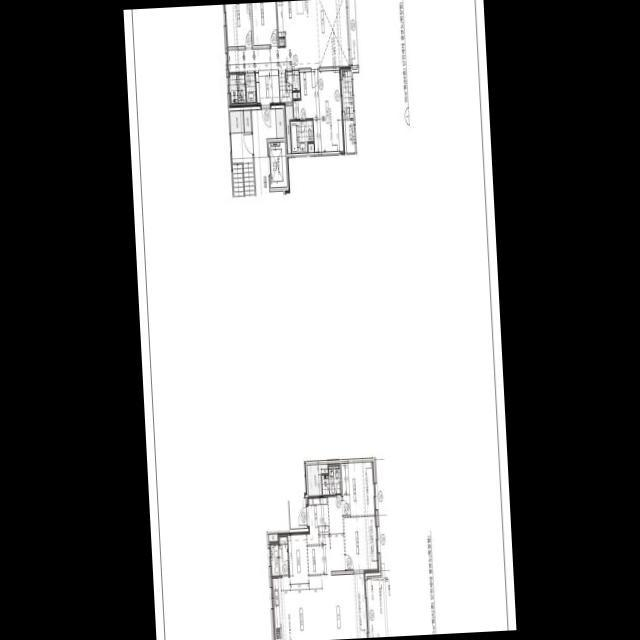background: (123, 0, 517, 640)
space_balconi: (343, 70, 353, 118)
space_bedroom: (311, 70, 345, 154), (344, 515, 379, 573), (341, 461, 376, 516), (225, 3, 252, 46), (252, 2, 277, 45)
space_dressroom: (293, 71, 313, 118)
space_elevator: (269, 141, 287, 187)
space_elevator_hall: (252, 108, 277, 195)
space_front: (307, 496, 329, 544), (256, 69, 280, 107)
space_kitchen: (271, 531, 312, 640), (277, 0, 305, 36)
space_living_room: (227, 0, 351, 72), (309, 496, 367, 640)
space_multipurpose_space: (269, 537, 289, 575)
space_other: (307, 464, 328, 496), (285, 103, 293, 153), (308, 545, 321, 574), (230, 110, 244, 133), (276, 108, 285, 138), (286, 71, 300, 90), (244, 110, 251, 132), (269, 533, 278, 542), (308, 143, 314, 152), (293, 92, 300, 98), (279, 38, 285, 45)
space_outdoor_room: (345, 120, 355, 153)
space_staircase: (231, 132, 255, 197), (279, 69, 292, 104)
space_toilet: (290, 120, 314, 153), (230, 73, 256, 103), (322, 465, 341, 494)
